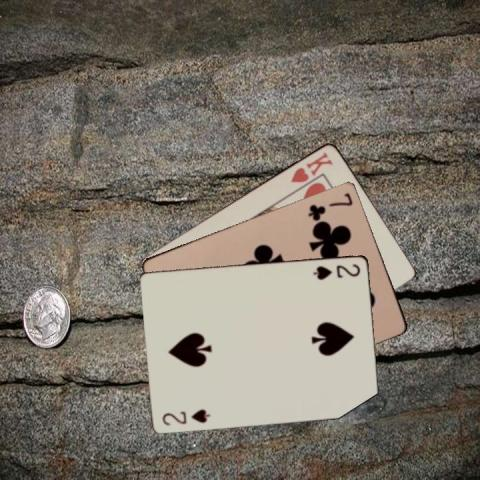2s: (159, 405, 211, 427), (310, 261, 362, 281)
7c: (305, 188, 354, 220)
Kh: (287, 149, 335, 184)
